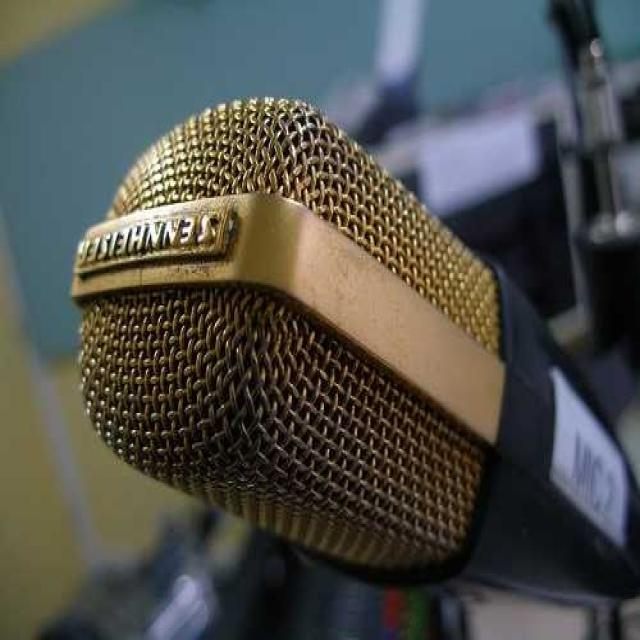microphone: (74, 67, 617, 565)
